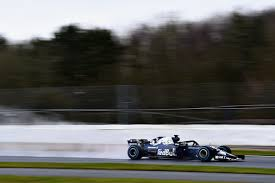FormulaOneCar: (124, 131, 248, 165)
